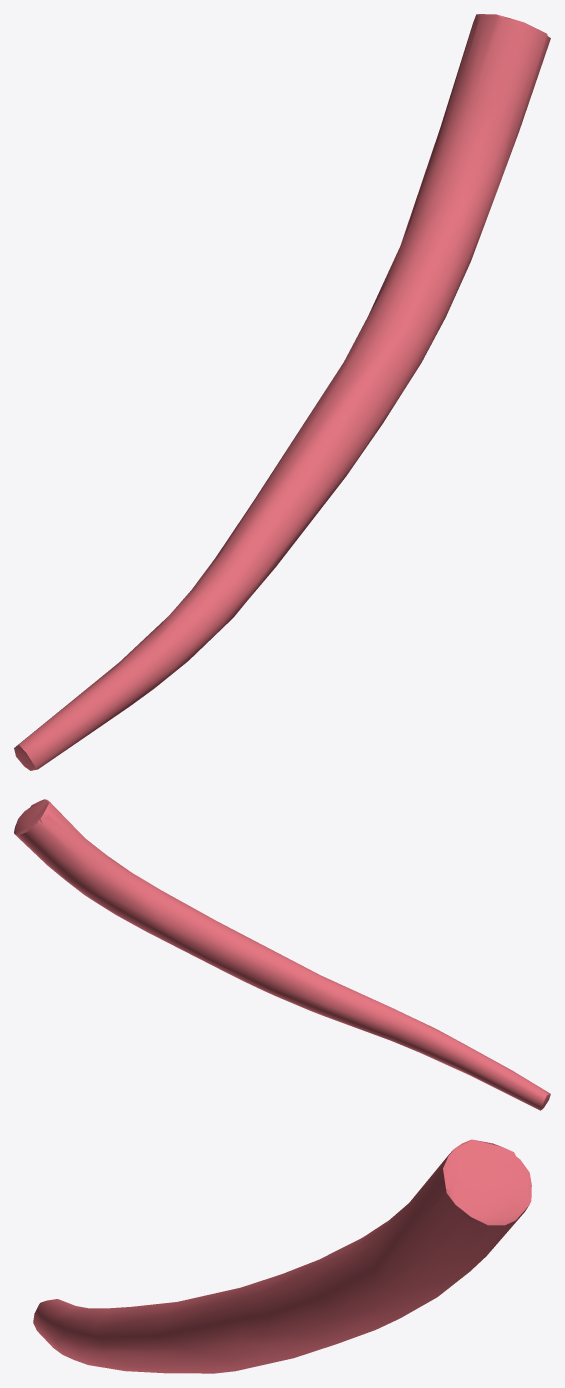
Rendered from fma68194_fj6052.glb.
3 renders of one model, top to bottom at view 1: azimuth 30°, elevation 25°; view 2: azimuth 150°, elevation 25°; view 3: azimuth 270°, elevation 25°, orthographic. The views are drawn at different scales.
Parts seen in each view (by area): view 1: FMA68194_FJ6052; view 2: FMA68194_FJ6052; view 3: FMA68194_FJ6052.
Part boxes in pixels (x1,y1,x2,y2): FMA68194_FJ6052: (14,14,550,770); FMA68194_FJ6052: (14,799,550,1110); FMA68194_FJ6052: (33,1139,531,1373).
Bounding box in the file's own units: 0.061 × 0.0394 × 0.031.
